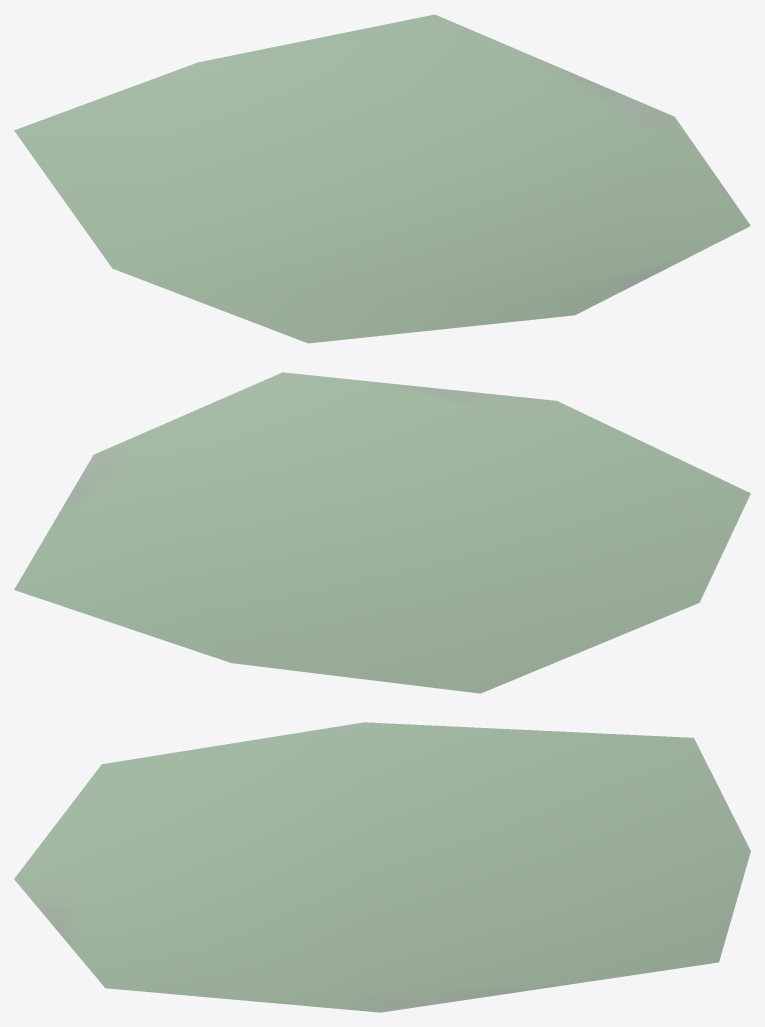
File: TROLLHOLE02_HOLECAP48.fbx
3 renders of one model, top to bottom at view 1: azimuth 30°, elevation 25°; view 2: azimuth 150°, elevation 25°; view 3: azimuth 270°, elevation 25°, orthographic. The views are drawn at different scales.
Visible parts, largest first — view 1: TROLLHOLE02_HOLECAP48; view 2: TROLLHOLE02_HOLECAP48; view 3: TROLLHOLE02_HOLECAP48.
Part boxes in pixels (bbox=[...]): TROLLHOLE02_HOLECAP48: bbox=[14, 14, 750, 343]; TROLLHOLE02_HOLECAP48: bbox=[14, 372, 750, 693]; TROLLHOLE02_HOLECAP48: bbox=[14, 722, 750, 1012].
Bounding box in the file's own units: 26401 × 771 × 27567.
1 material, 1 textured.
